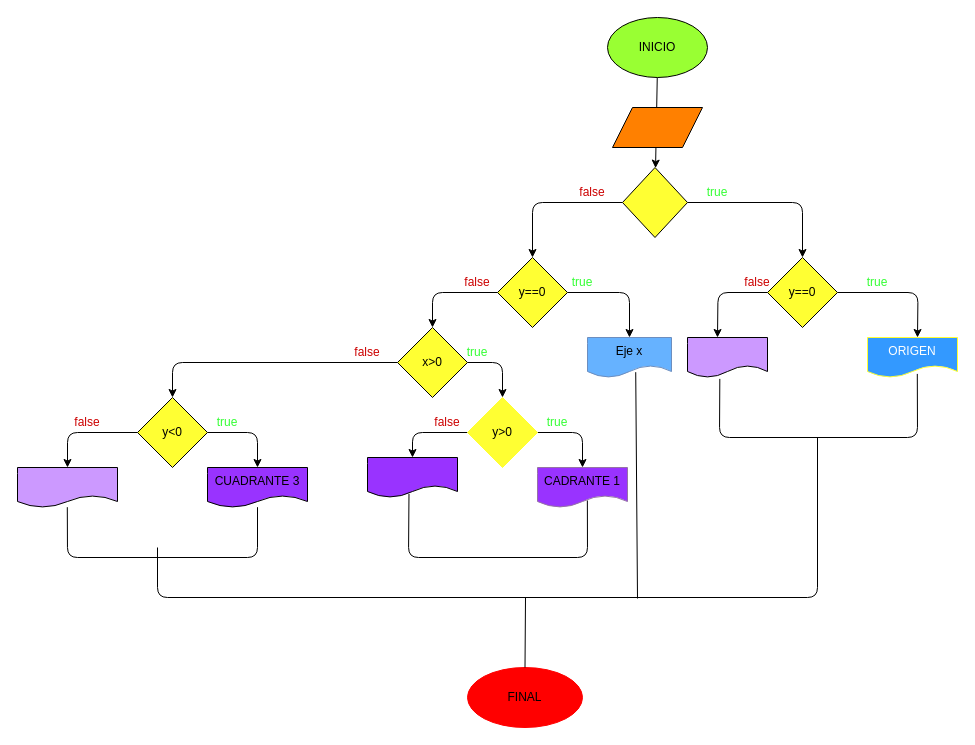
The diagram is 975 pixels wide and 745 high, and some of its shapes have lost their labels. Here are the shapes that lost their labels. From the top down, the centre of each, then its label:
the point at 657,127: x,y
the point at 655,202: x==0
the point at 727,357: Eje Y
the point at 67,487: CUADRANTE 2
the point at 412,477: CUARANTE 4
